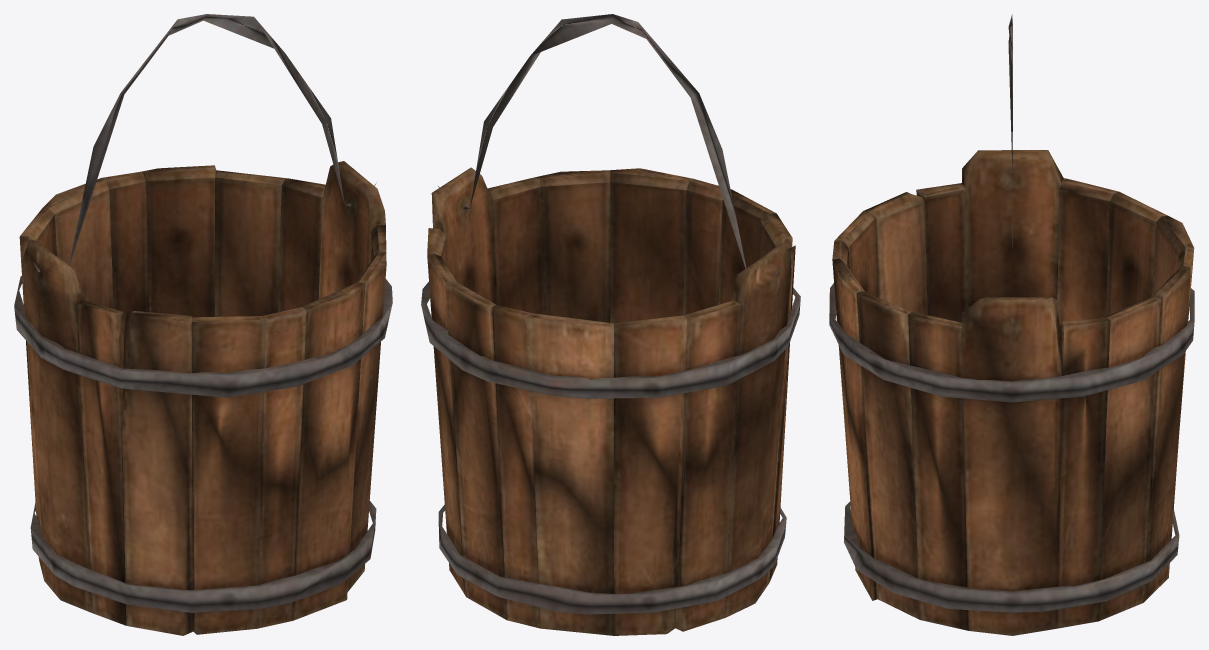
The model's file is wooden_bucket_01.glb.
3 views of the same model, side by side, from view 1: azimuth 30°, elevation 25°; view 2: azimuth 150°, elevation 25°; view 3: azimuth 270°, elevation 25° (orthographic). The views are drawn at different scales.
Visible parts, largest first — view 1: wooden_bucket_01; view 2: wooden_bucket_01; view 3: wooden_bucket_01.
Part boxes in pixels (x1,y1,x2,y2): wooden_bucket_01: (14,14,392,635); wooden_bucket_01: (421,14,800,635); wooden_bucket_01: (829,14,1194,635).
Size of the model in its own units: 0.3577 by 0.5473 by 0.3354.
Materials: 1 (1 with a texture image).
